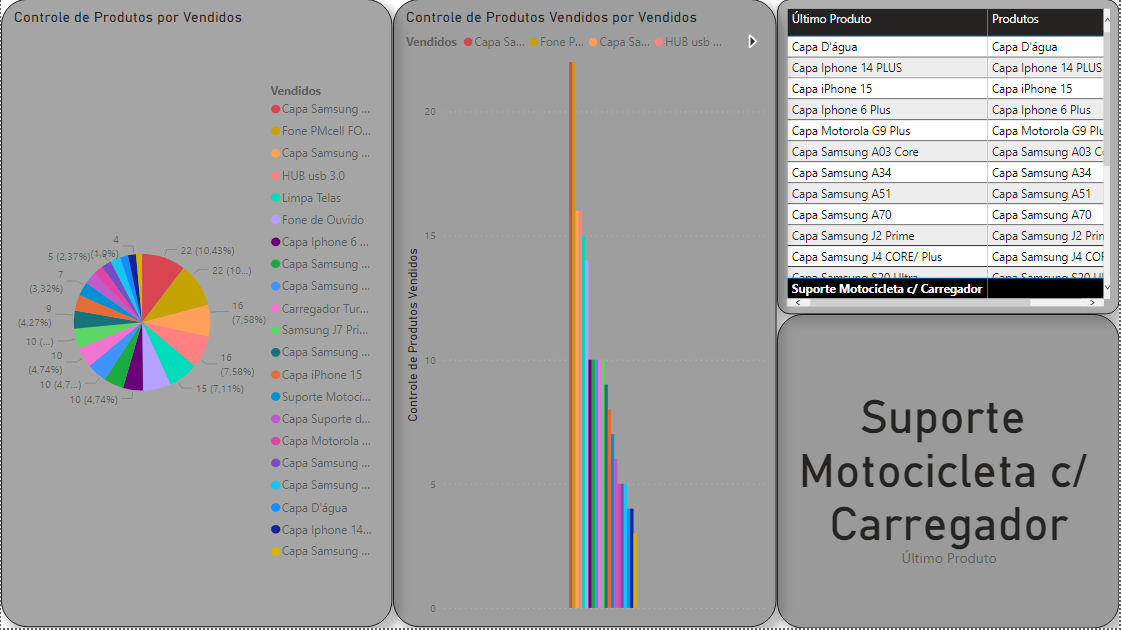

What the dashboard file says about the page in this screenshot:
{"tool":"powerbi","page":{"name":"Maio","canvas":[1980,1080],"ordinal":0},"visuals":[{"type":"pieChart","fields":{"Y":["CountNonNull(Planilha1 (2). ACESSÓRIOS  VENDIDOS)","CountNonNull(Planilha1 (2). SAMSUNG VENDIDOS)","CountNonNull(Planilha1 (2).IPHONE VENDIDOS)","CountNonNull(Planilha1 (2).MOTOROLA VENDIDOS)"]},"box":[0,0,657.3,1079.5],"z":0},{"type":"tableEx","fields":{"Values":["Planilha1 (2).IPHONE VENDIDOS","Sum(Planilha1 (2).VALOR)","Planilha1 (2). SAMSUNG VENDIDOS","Sum(Planilha1 (2).VALOR_1)","Planilha1 (2).MOTOROLA VENDIDOS","Sum(Planilha1 (2).VALOR_2)","Planilha1 (2). ACESSÓRIOS  VENDIDOS","Sum(Planilha1 (2).VALOR_3)"]},"box":[1532.4,0,447.6,1079.5],"z":1000},{"type":"clusteredColumnChart","fields":{"Y":["CountNonNull(Planilha1 (2). ACESSÓRIOS  VENDIDOS)","CountNonNull(Planilha1 (2). SAMSUNG VENDIDOS)","CountNonNull(Planilha1 (2).IPHONE VENDIDOS)","CountNonNull(Planilha1 (2).MOTOROLA VENDIDOS)"]},"box":[657.3,0,875.1,351.4],"z":2000},{"type":"card","fields":{"Values":["Min(Planilha1.Produto)"]},"box":[657.3,710.8,875.1,368.7],"z":3000},{"type":"donutChart","fields":{"Y":["CountNonNull(Planilha1 (2). ACESSÓRIOS  VENDIDOS)","CountNonNull(Planilha1 (2). SAMSUNG VENDIDOS)"],"Category":["Planilha2.Produto"]},"box":[657.3,351.4,875.1,359.4],"z":4000}]}

Visuals, with their boxes in screenshot pixels (x1, y1, x2, y2), scaled from the page's 1980x1080 canvas onto the 1122x630 screenshot:
pieChart - CountNonNull(Planilha1 (2). ACESSÓRIOS  VENDIDOS) x CountNonNull(Planilha1 (2). SAMSUNG VENDIDOS): l=0, t=0, r=372, b=629
tableEx - Planilha1 (2).IPHONE VENDIDOS x Sum(Planilha1 (2).VALOR): l=868, t=0, r=1121, b=629
clusteredColumnChart - CountNonNull(Planilha1 (2). ACESSÓRIOS  VENDIDOS) x CountNonNull(Planilha1 (2). SAMSUNG VENDIDOS): l=372, t=0, r=868, b=205
card - Min(Planilha1.Produto): l=372, t=415, r=868, b=629
donutChart - CountNonNull(Planilha1 (2). ACESSÓRIOS  VENDIDOS) x CountNonNull(Planilha1 (2). SAMSUNG VENDIDOS): l=372, t=205, r=868, b=415
